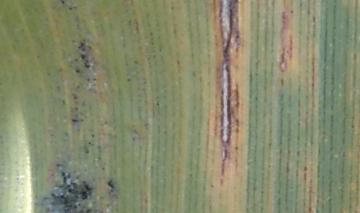tarspot: (106, 177, 116, 193), (81, 178, 93, 190), (60, 171, 68, 187), (234, 117, 241, 134), (76, 41, 86, 52), (68, 176, 79, 186), (54, 162, 68, 169), (82, 59, 91, 69), (69, 117, 81, 124), (132, 57, 141, 66), (70, 91, 80, 99), (310, 14, 317, 24), (350, 51, 357, 61), (81, 190, 87, 201), (83, 146, 91, 154), (232, 143, 239, 152), (33, 53, 42, 60), (168, 3, 175, 12), (279, 76, 285, 86), (59, 193, 67, 200), (73, 105, 80, 113), (84, 206, 92, 213), (130, 134, 137, 142), (288, 8, 295, 15), (125, 76, 132, 83), (72, 56, 79, 63), (66, 187, 73, 194), (89, 132, 96, 139), (74, 83, 81, 90), (80, 52, 86, 60), (73, 67, 81, 73), (85, 76, 91, 84), (302, 164, 308, 172), (102, 119, 110, 125), (175, 58, 180, 67), (91, 76, 98, 82), (62, 199, 69, 205), (60, 98, 67, 104), (234, 33, 240, 39), (155, 100, 160, 107), (67, 5, 72, 11), (87, 140, 93, 145), (100, 165, 105, 171), (59, 1, 66, 5)
